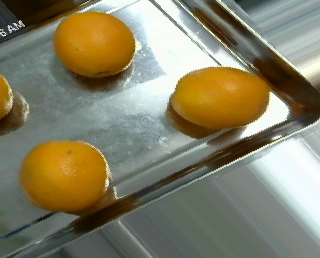Orange: (170, 67, 271, 129), (20, 140, 108, 211), (53, 11, 134, 77)
